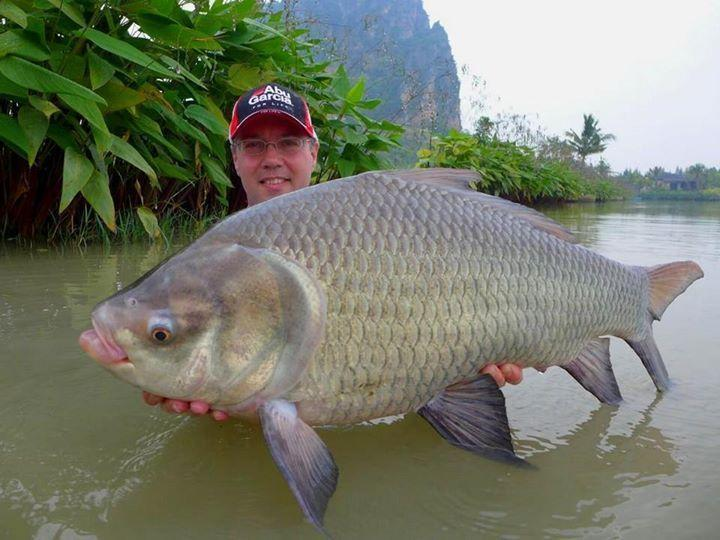Indian Carp: (82, 163, 704, 520)
